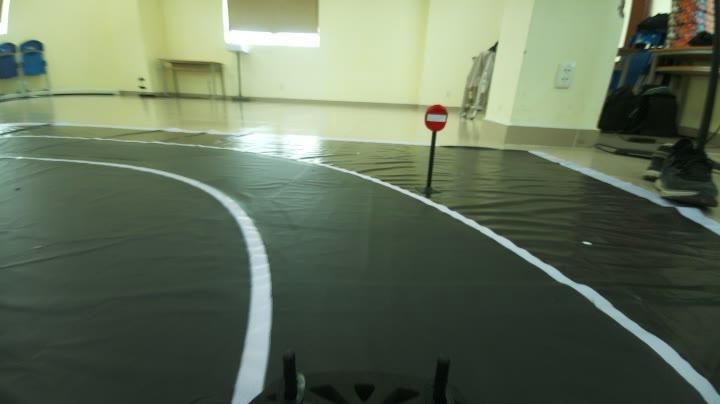no_entry: (420, 98, 454, 134)
